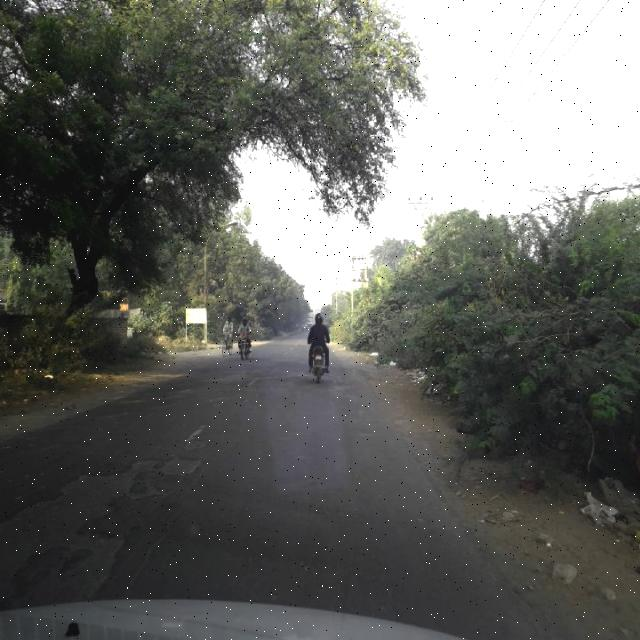D40: (1, 439, 206, 598)
